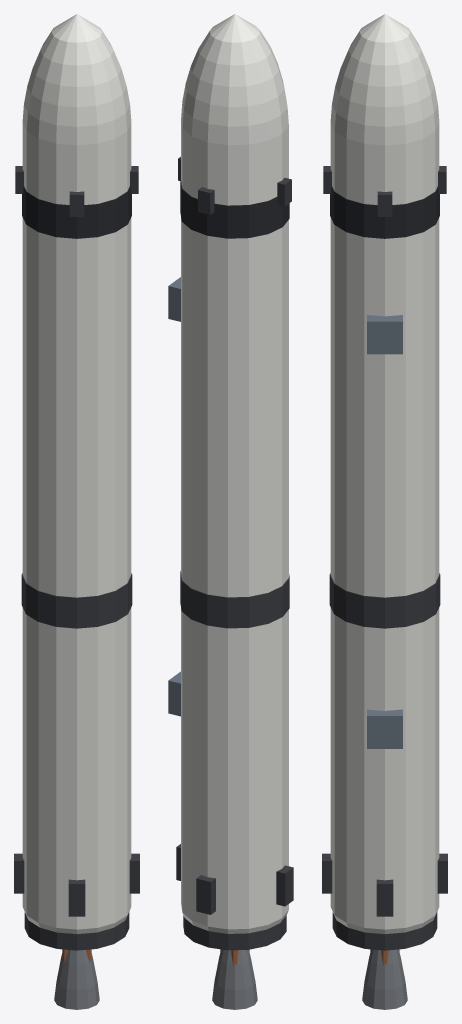
The model's file is Booster_S.fbx.
3 renders of one model, left to right at view 1: azimuth 90°, elevation 25°; view 2: azimuth 150°, elevation 25°; view 3: azimuth 270°, elevation 25°, orthographic.
Visible parts, largest first — view 1: Booster_S; view 2: Booster_S; view 3: Booster_S.
Boxes of the visible parts, box(x1,y1,x2,y2) form: Booster_S: box(14, 14, 139, 1009); Booster_S: box(168, 14, 293, 1009); Booster_S: box(322, 14, 447, 1009).
Bounding box in the file's own units: 1.07 × 9 × 1.04.
1 material, 1 textured.
